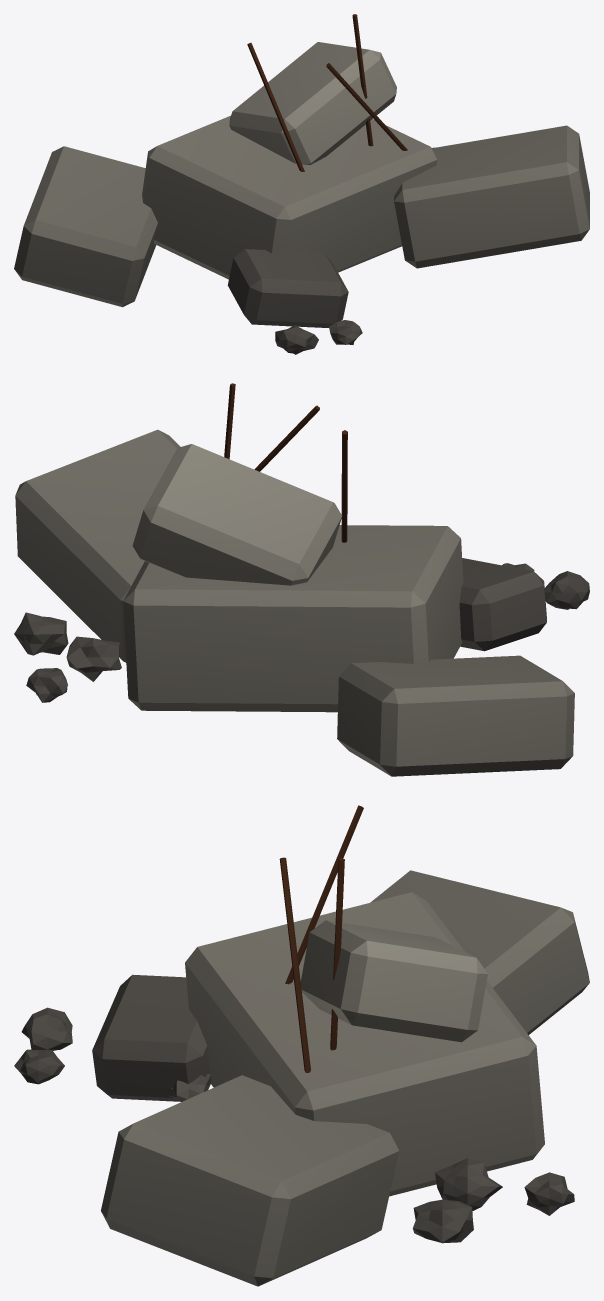
Rendered from debris_pile.glb.
3 renders of one model, top to bottom at view 1: azimuth 30°, elevation 25°; view 2: azimuth 150°, elevation 25°; view 3: azimuth 270°, elevation 25°, orthographic. The views are drawn at different scales.
Parts seen in each view (by area): view 1: debris_pile; view 2: debris_pile; view 3: debris_pile.
Part boxes in pixels (bbox=[...]): debris_pile: bbox=[14, 14, 589, 354]; debris_pile: bbox=[14, 383, 589, 776]; debris_pile: bbox=[14, 805, 589, 1286].
Size of the model in its own units: 2.82 by 1.27 by 2.
